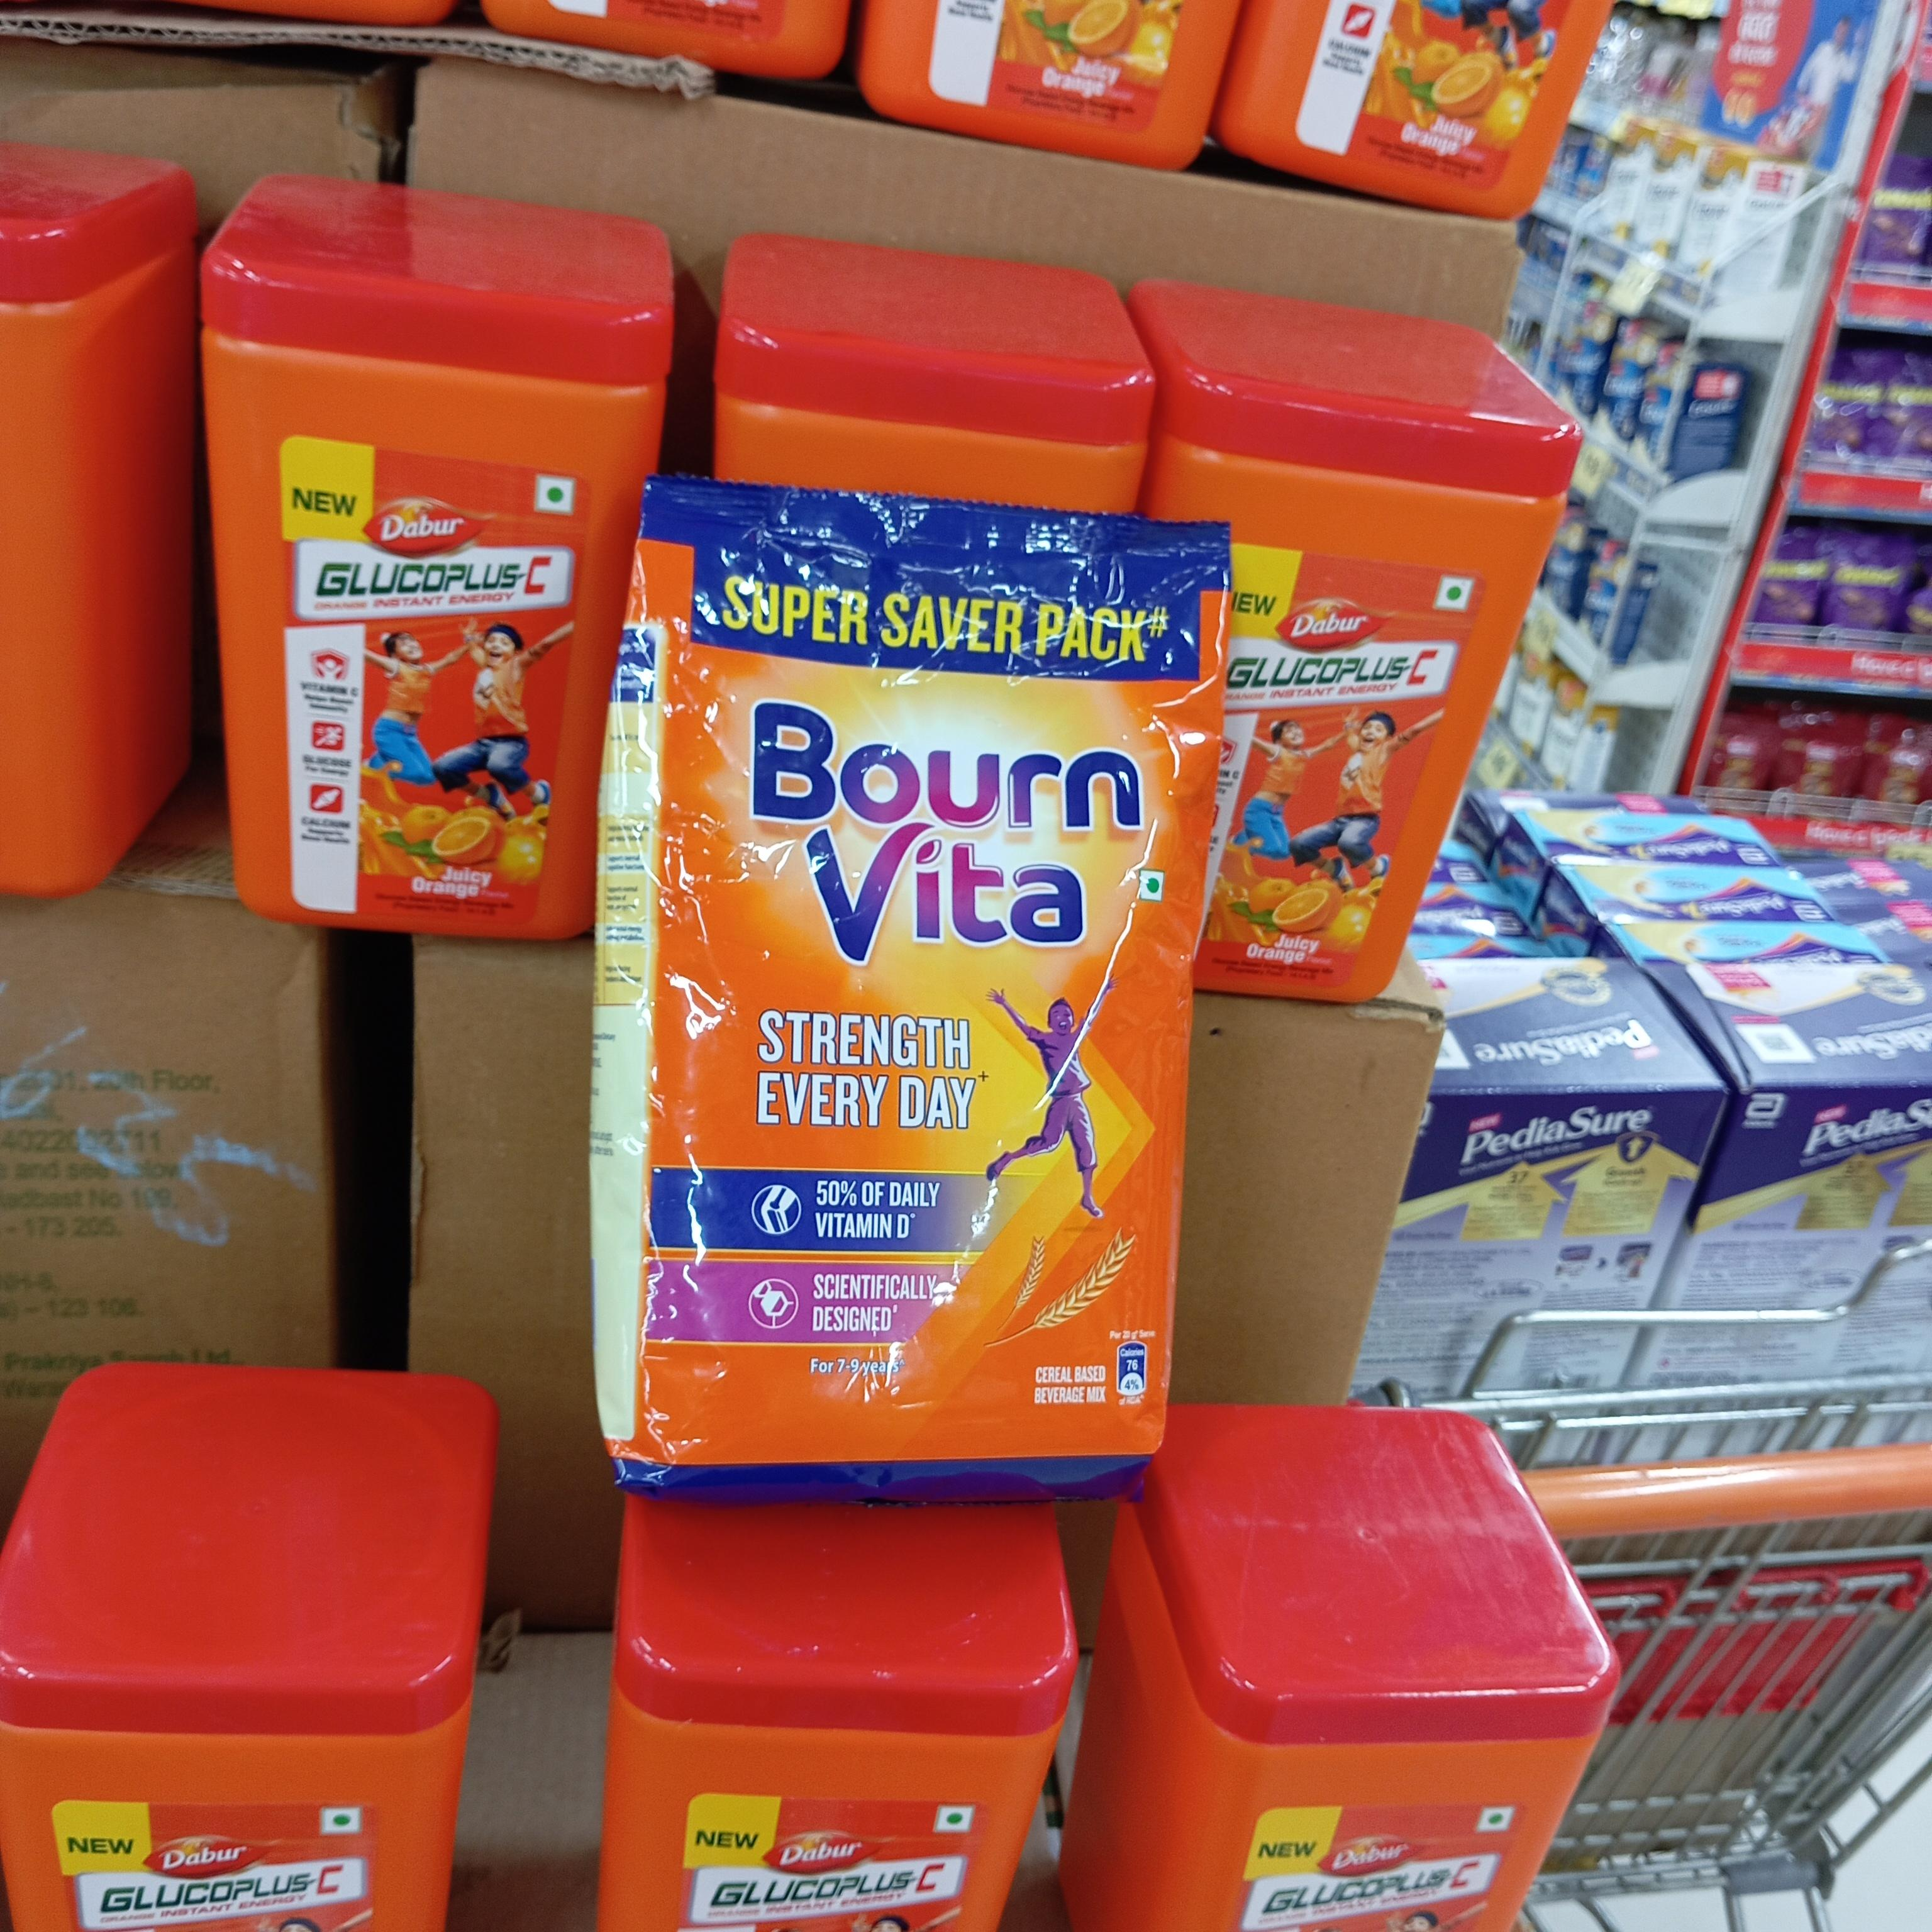BOURN_VITA_1_KG_POUCH: (591, 472, 1201, 1509)
